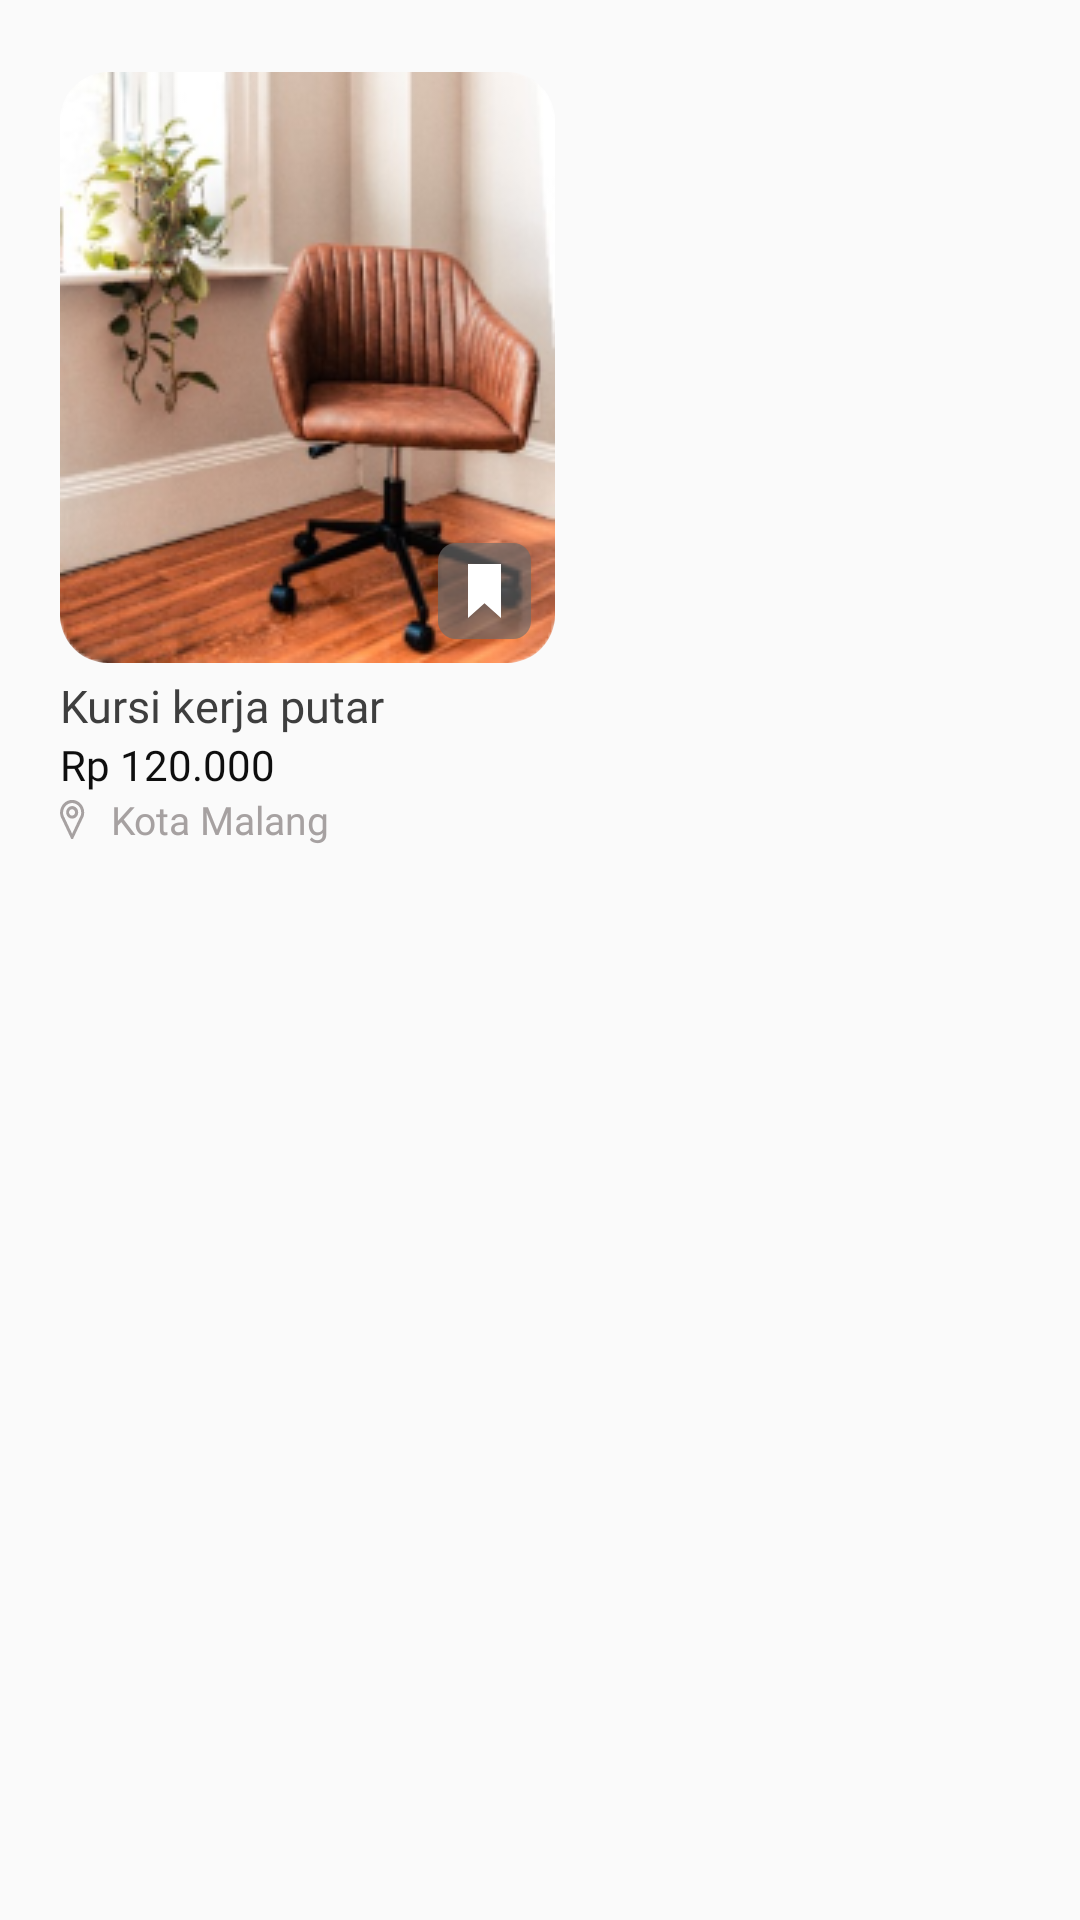

Icon bounding boxes for this 1080×1920 phone screenshot, format (x1, y1, x2, y2):
location: (60, 800, 84, 839)
